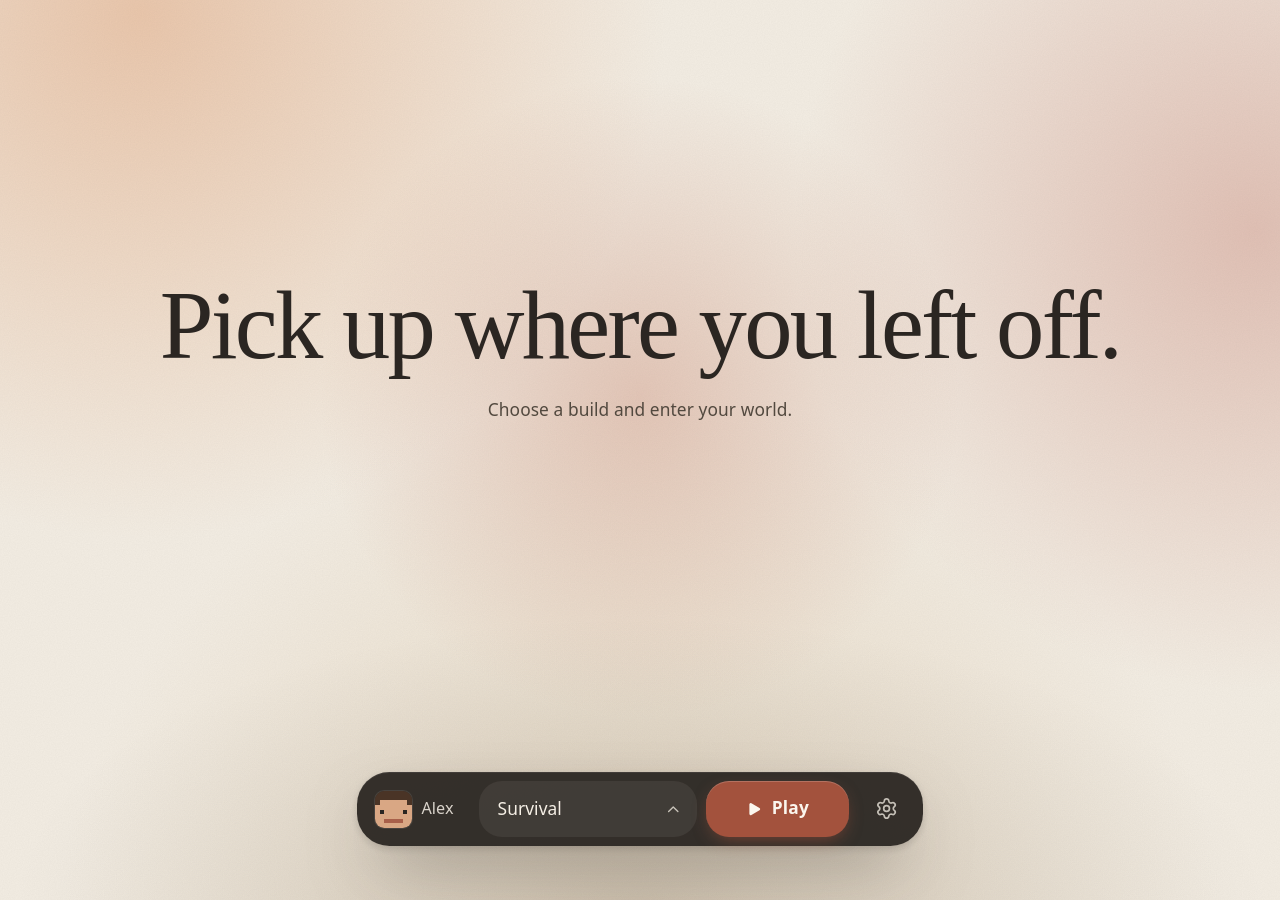
Test: playing a ready profile › goes Play -> Launching… -> Playing -> Play, and ignores duplicate clicks while busy
Later steps or results of the test are not shown.
Click the button "Play": {"x": 778, "y": 809} [706, 781, 849, 837]
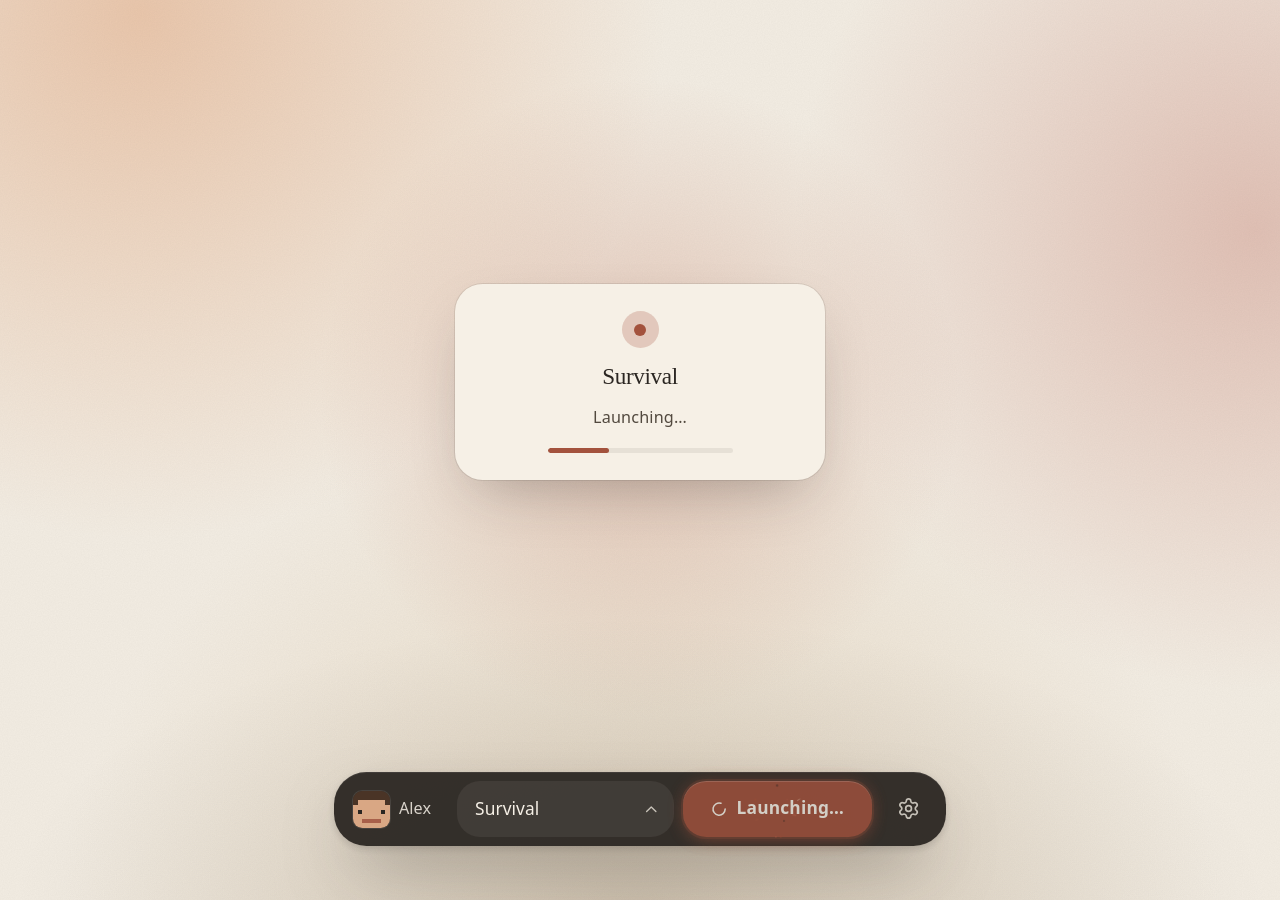
Click the button named "Play": {"x": 778, "y": 809} [683, 781, 872, 837]
Click the button named "Play": {"x": 778, "y": 809} [683, 781, 872, 837]
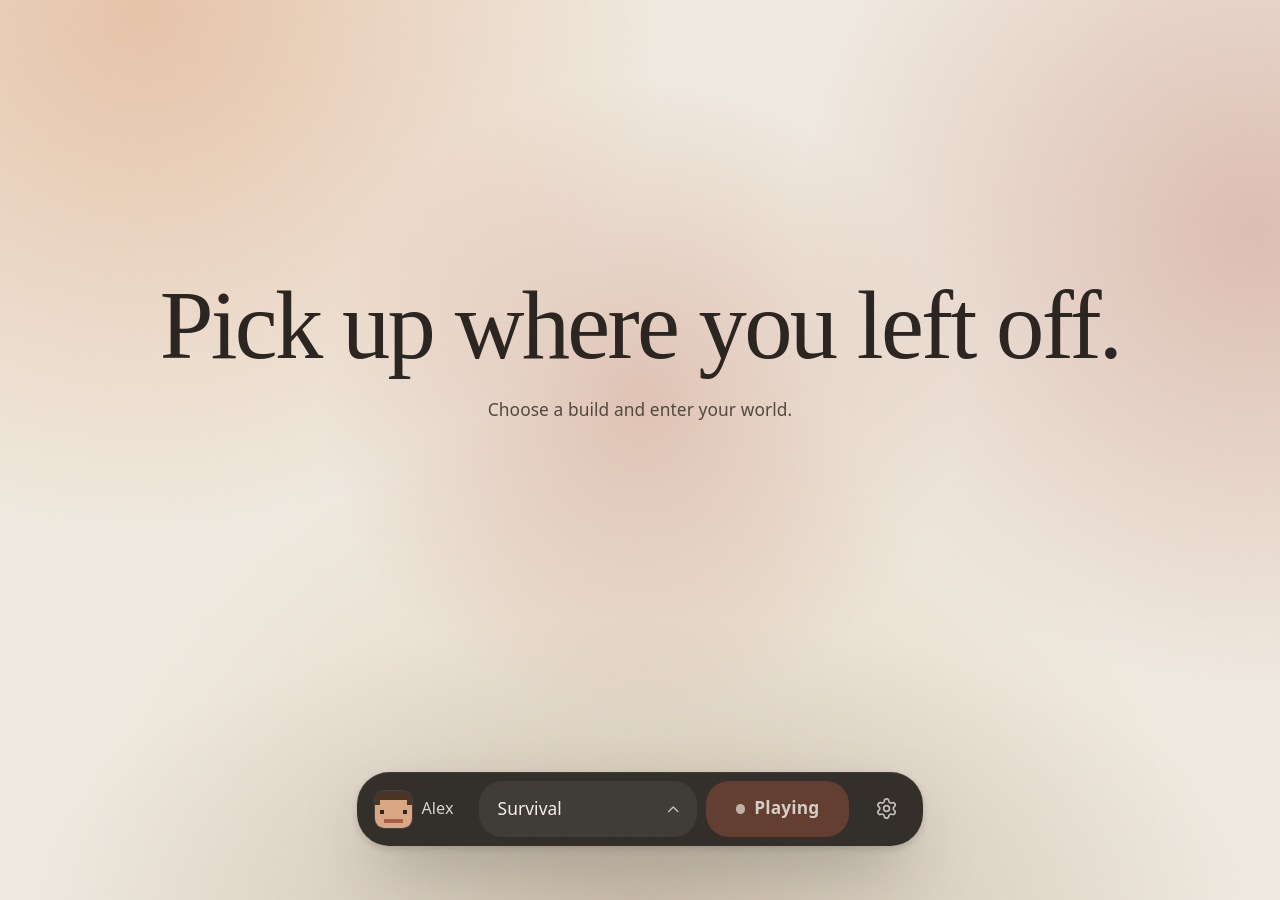
Expected: the button named "Launching…" is disabled
Expected: the button "Playing" is disabled
Click the button "Playing": {"x": 778, "y": 809} [706, 781, 849, 837]
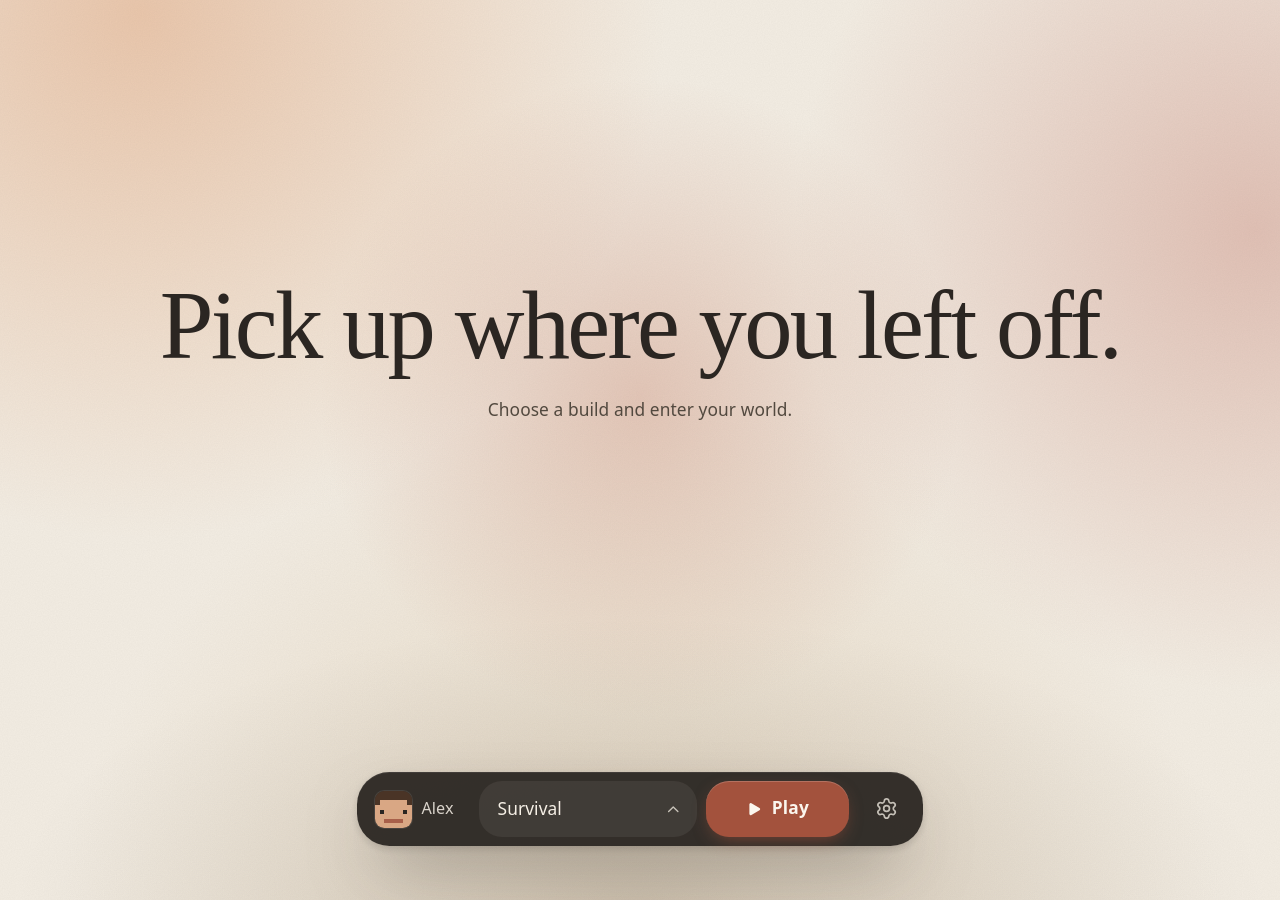
Expected: the button "Play" is enabled, [706, 781, 849, 837]
